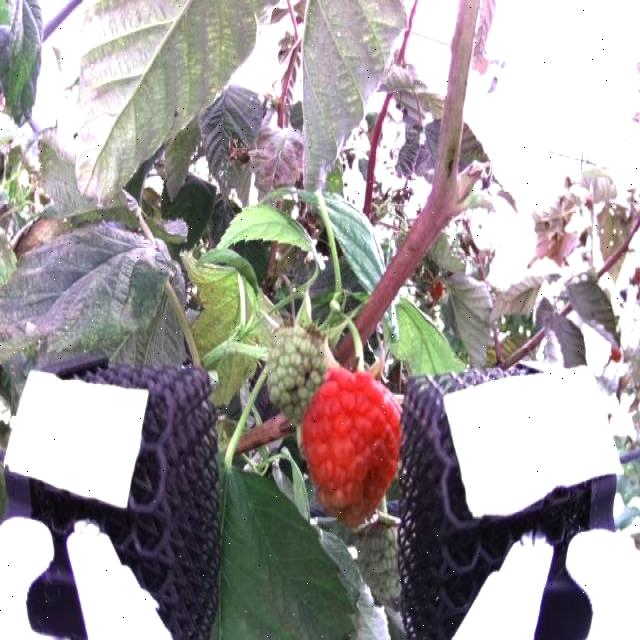Riped berries: (298, 363, 403, 525)
